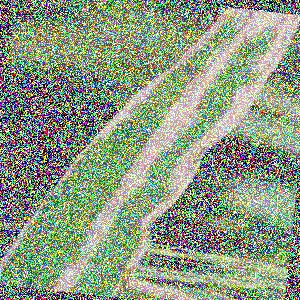Leaf_Blast: (134, 6, 259, 231)
